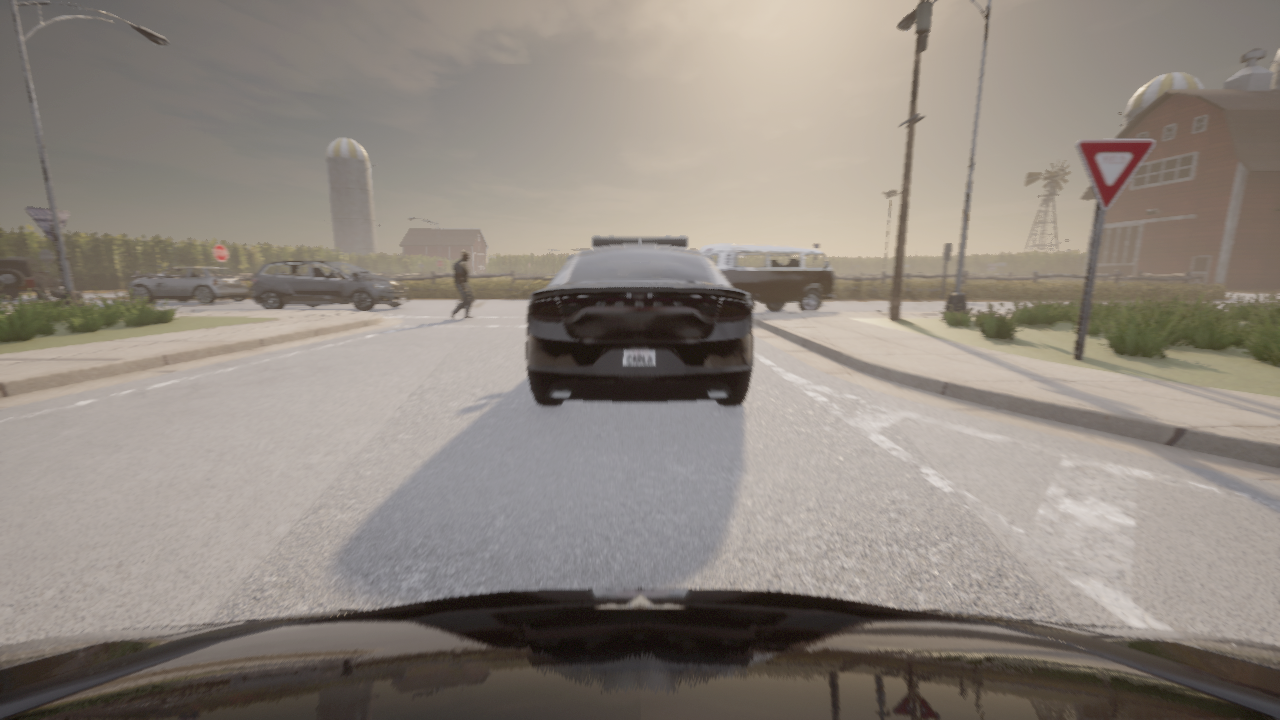cyclist: (0, 588, 1279, 719), (526, 235, 752, 405), (700, 243, 834, 311), (252, 259, 409, 310), (128, 267, 249, 303)
pedestrian: (450, 250, 474, 319)
